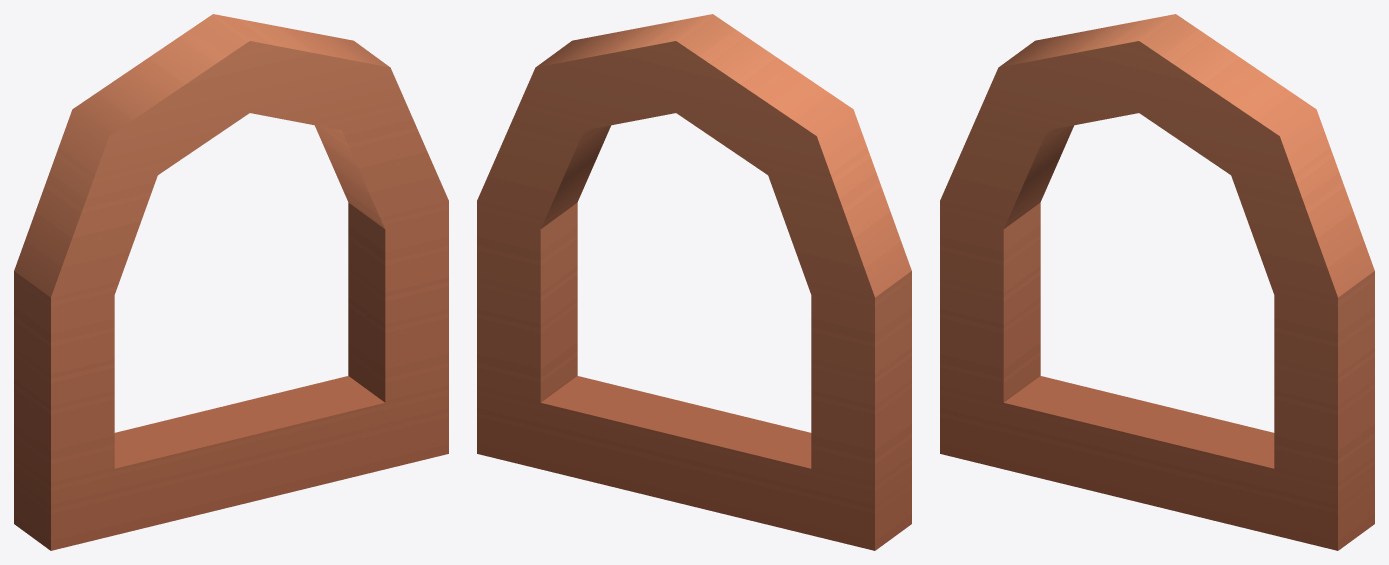
The model's file is window_brown_round_low.glb.
3 views of the same model, side by side, from view 1: azimuth 30°, elevation 25°; view 2: azimuth 150°, elevation 25°; view 3: azimuth 330°, elevation 25° (orthographic).
Visible parts, largest first — view 1: window-brown-round-low; view 2: window-brown-round-low; view 3: window-brown-round-low.
Part boxes in pixels (x1,y1,x2,y2): window-brown-round-low: (14, 14, 448, 550); window-brown-round-low: (477, 14, 911, 550); window-brown-round-low: (940, 14, 1374, 550).
Bounding box in the file's own units: 0.3125 × 0.3462 × 0.05.
1 material, 1 textured.
